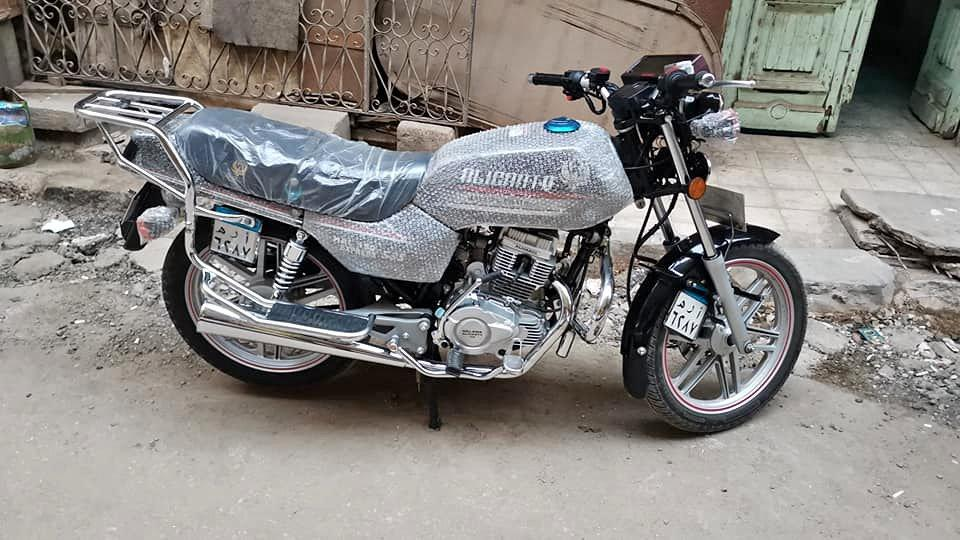License Plate: (208, 212, 265, 262), (662, 284, 711, 337)
